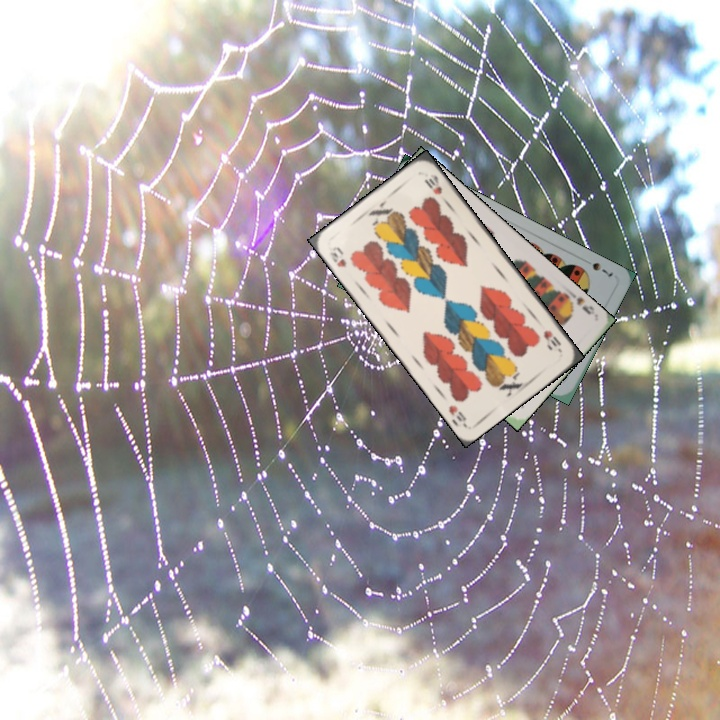H10: (324, 242, 349, 270), (539, 326, 564, 349)
S7: (588, 258, 616, 279)
S9: (563, 287, 597, 317)
